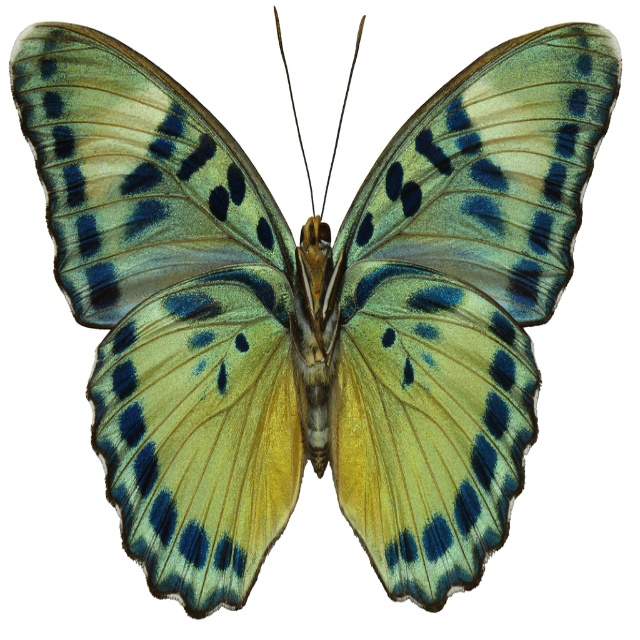Butterfly: (6, 5, 624, 617)
